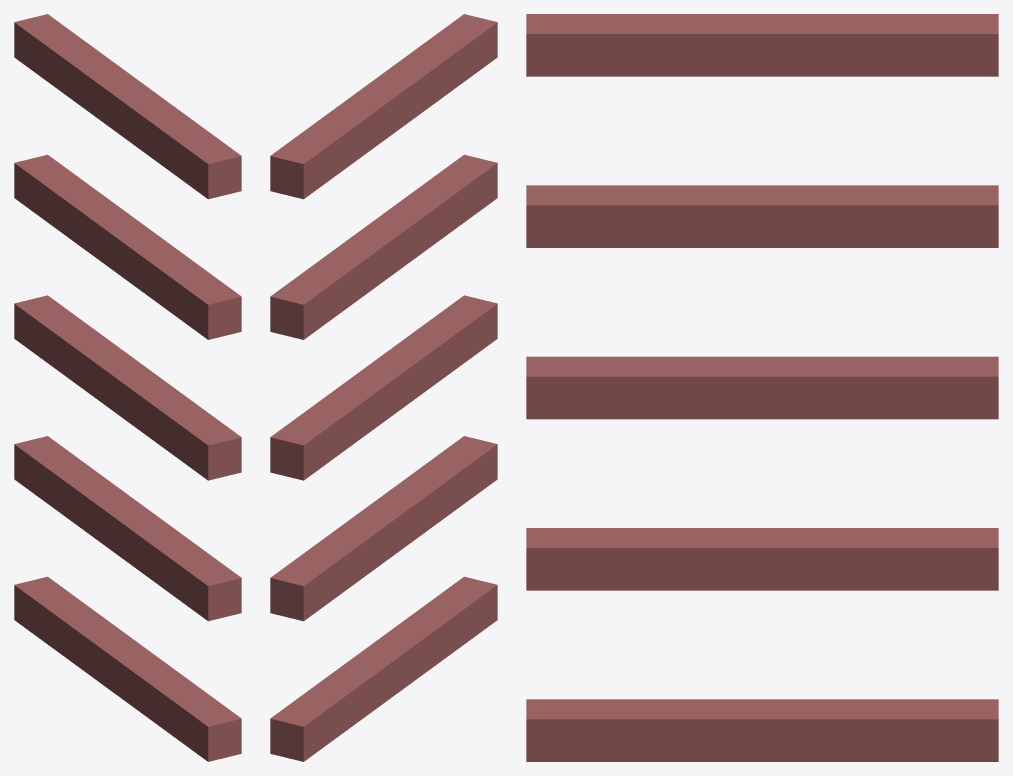
File: redladder.fbx
3 renders of one model, left to right at view 1: azimuth 30°, elevation 25°; view 2: azimuth 150°, elevation 25°; view 3: azimuth 270°, elevation 25°, orthographic. The views are drawn at different scales.
Visible parts, largest first — view 1: pCube2, pasted__pCube2, pasted__pasted__pCube2, pasted__pCube4, pasted__pasted__pCube4; view 2: pCube2, pasted__pCube2, pasted__pasted__pCube2, pasted__pCube4, pasted__pasted__pCube4; view 3: pCube2, pasted__pCube2, pasted__pasted__pCube2, pasted__pCube4, pasted__pasted__pCube4.
Boxes of the visible parts, bbox=[...] form: pCube2: bbox=[14, 295, 241, 480]; pasted__pCube2: bbox=[14, 154, 241, 339]; pasted__pasted__pCube2: bbox=[14, 14, 241, 199]; pasted__pCube4: bbox=[14, 576, 241, 761]; pasted__pasted__pCube4: bbox=[14, 436, 241, 621]; pCube2: bbox=[270, 295, 497, 480]; pasted__pCube2: bbox=[270, 154, 497, 339]; pasted__pasted__pCube2: bbox=[270, 14, 497, 199]; pasted__pCube4: bbox=[270, 576, 497, 761]; pasted__pasted__pCube4: bbox=[270, 436, 497, 621]; pCube2: bbox=[526, 356, 998, 419]; pasted__pCube2: bbox=[526, 185, 998, 247]; pasted__pasted__pCube2: bbox=[526, 14, 998, 76]; pasted__pCube4: bbox=[526, 699, 998, 761]; pasted__pasted__pCube4: bbox=[526, 528, 998, 590].
Size of the model in its own units: 5 by 85 by 50.
